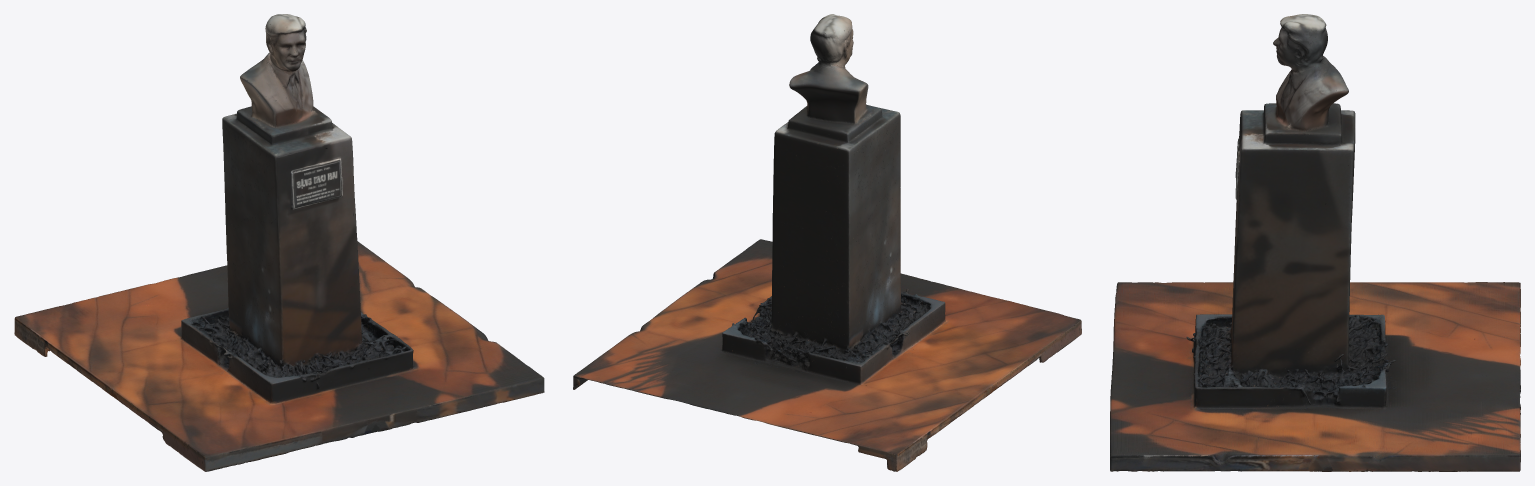
File: Meshy_AI_Bust_of_Đặng_Thai__0812151136_texture.glb
3 views of the same model, side by side, from view 1: azimuth 30°, elevation 25°; view 2: azimuth 150°, elevation 25°; view 3: azimuth 270°, elevation 25° (orthographic). The views are drawn at different scales.
Size of the model in its own units: 2 by 2 by 2.
1 material, 1 textured.
